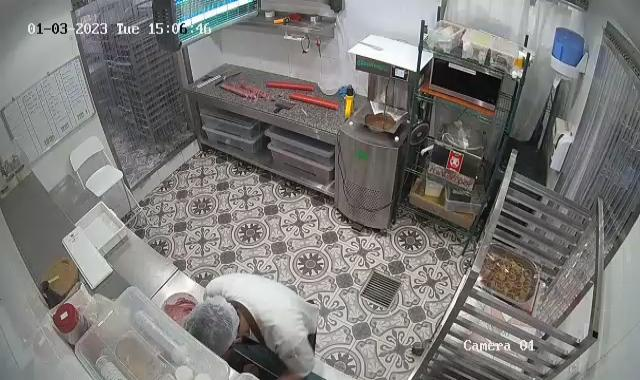hairnet: (182, 294, 242, 354)
